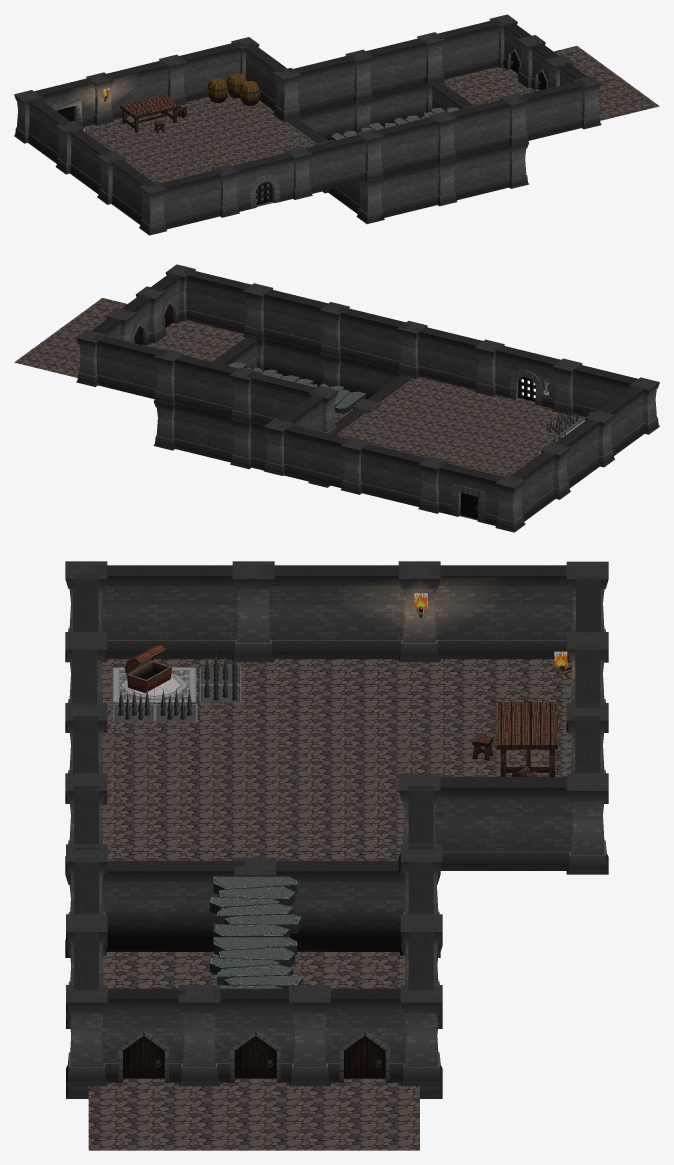
The model's file is stage.glb.
The picture shows the model from 3 angles, top to bottom: view 1: azimuth 30°, elevation 25°; view 2: azimuth 150°, elevation 25°; view 3: azimuth 270°, elevation 25°; orthographic projection. The views are drawn at different scales.
Visible parts, largest first — view 1: 3D_moderu.lwo.038, 3D_moderu.lwo.060, 3D_moderu.lwo.054, 3D_moderu.lwo.053, 3D_moderu.lwo.056, 3D_moderu.lwo.030, 3D_moderu.lwo.011, 3D_moderu.lwo.017, 3D_moderu.lwo.052, 3D_moderu.lwo.013, 3D_moderu.lwo.055, 3D_moderu.lwo.057 (+43 smaller); view 2: 3D_moderu.lwo.038, 3D_moderu.lwo.060, 3D_moderu.lwo.056, 3D_moderu.lwo.053, 3D_moderu.lwo.054, 3D_moderu.lwo.016, 3D_moderu.lwo.010, 3D_moderu.lwo.017, 3D_moderu.lwo.055, 3D_moderu.lwo.012, 3D_moderu.lwo.052, 3D_moderu.lwo.013 (+38 smaller); view 3: 3D_moderu.lwo.038, 3D_moderu.lwo.060, 3D_moderu.lwo.022, 3D_moderu.lwo.021, 3D_moderu.lwo.020, 3D_moderu.lwo.023, 3D_moderu.lwo.045, 3D_moderu.lwo.044, 3D_moderu.lwo.065, 3D_moderu.lwo.073, 3D_moderu.lwo.072, 3D_moderu.lwo.034 (+40 smaller).
Part boxes in pixels (left/top/right/bottom): 3D_moderu.lwo.038: left=28, top=92, right=316, bottom=224; 3D_moderu.lwo.060: left=443, top=46, right=659, bottom=120; 3D_moderu.lwo.054: left=518, top=80, right=586, bottom=140; 3D_moderu.lwo.053: left=432, top=19, right=502, bottom=79; 3D_moderu.lwo.056: left=372, top=115, right=441, bottom=175; 3D_moderu.lwo.030: left=288, top=54, right=359, bottom=114; 3D_moderu.lwo.011: left=156, top=169, right=224, bottom=229; 3D_moderu.lwo.017: left=303, top=133, right=368, bottom=193; 3D_moderu.lwo.052: left=363, top=37, right=429, bottom=96; 3D_moderu.lwo.013: left=232, top=152, right=293, bottom=211; 3D_moderu.lwo.055: left=444, top=99, right=512, bottom=158; 3D_moderu.lwo.057: left=381, top=163, right=438, bottom=217; 3D_moderu.lwo.038: left=338, top=376, right=644, bottom=521; 3D_moderu.lwo.060: left=14, top=298, right=245, bottom=377; 3D_moderu.lwo.056: left=335, top=306, right=409, bottom=371; 3D_moderu.lwo.053: left=92, top=334, right=167, bottom=398; 3D_moderu.lwo.054: left=182, top=269, right=251, bottom=333; 3D_moderu.lwo.016: left=279, top=423, right=352, bottom=488; 3D_moderu.lwo.010: left=360, top=444, right=430, bottom=506; 3D_moderu.lwo.017: left=412, top=327, right=482, bottom=389; 3D_moderu.lwo.055: left=260, top=289, right=332, bottom=352; 3D_moderu.lwo.012: left=435, top=462, right=503, bottom=525; 3D_moderu.lwo.052: left=174, top=355, right=238, bottom=417; 3D_moderu.lwo.013: left=493, top=344, right=560, bottom=408; 3D_moderu.lwo.038: left=101, top=659, right=572, bottom=860; 3D_moderu.lwo.060: left=88, top=1078, right=419, bottom=1150; 3D_moderu.lwo.022: left=261, top=565, right=411, bottom=659; 3D_moderu.lwo.021: left=430, top=565, right=580, bottom=659; 3D_moderu.lwo.020: left=434, top=777, right=572, bottom=870; 3D_moderu.lwo.023: left=94, top=565, right=244, bottom=659; 3D_moderu.lwo.045: left=102, top=861, right=244, bottom=951; 3D_moderu.lwo.044: left=263, top=861, right=404, bottom=951; 3D_moderu.lwo.065: left=102, top=952, right=405, bottom=988; 3D_moderu.lwo.073: left=102, top=988, right=185, bottom=1082; 3D_moderu.lwo.072: left=325, top=988, right=406, bottom=1082; 3D_moderu.lwo.034: left=214, top=988, right=294, bottom=1082.
Bounding box in the file's own units: 28.5 × 4.41 × 12.98.
86 materials, 86 textured.
